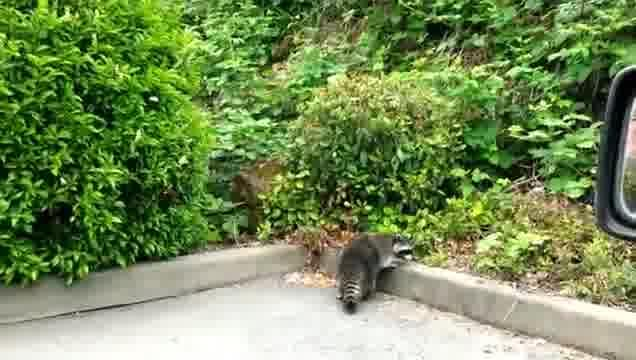raccoon: (336, 235, 415, 316)
